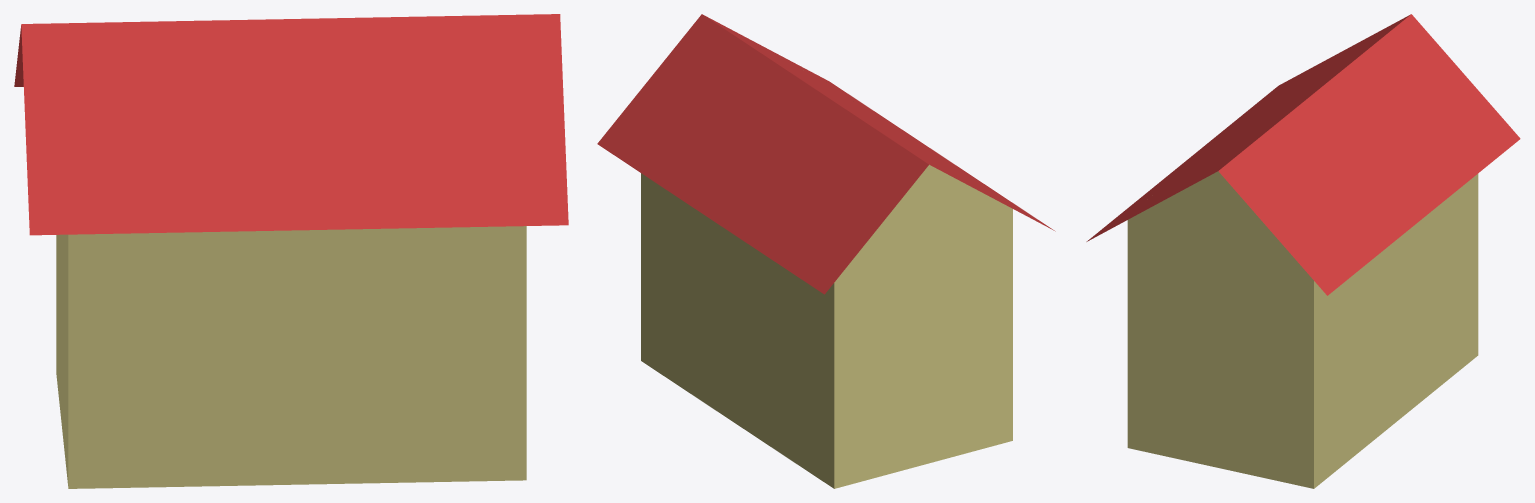
3 views of the same model, side by side, from view 1: azimuth 30°, elevation 25°; view 2: azimuth 150°, elevation 25°; view 3: azimuth 270°, elevation 25° (orthographic). The views are drawn at different scales.
Size of the model in its own units: 11.87 by 10.39 by 8.2.
